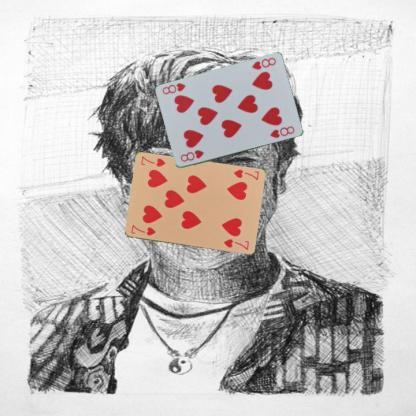7h: (128, 222, 157, 237), (231, 167, 260, 181)
8h: (249, 55, 277, 71), (178, 147, 205, 163)
